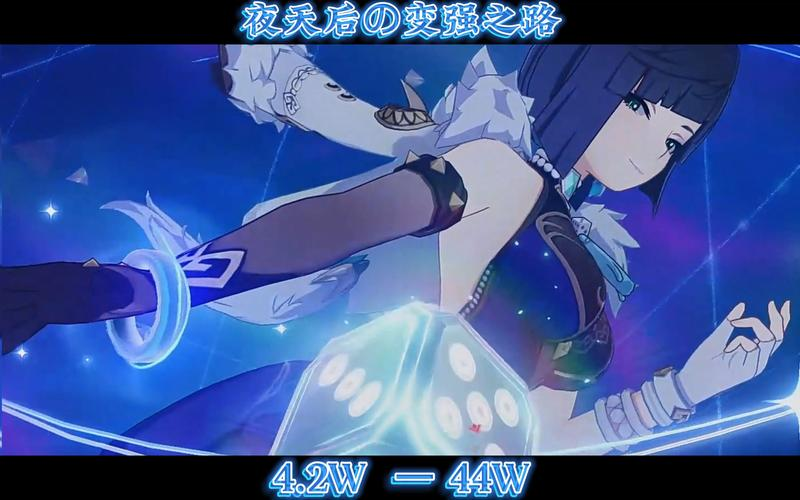夜兰: (1, 52, 793, 453)
